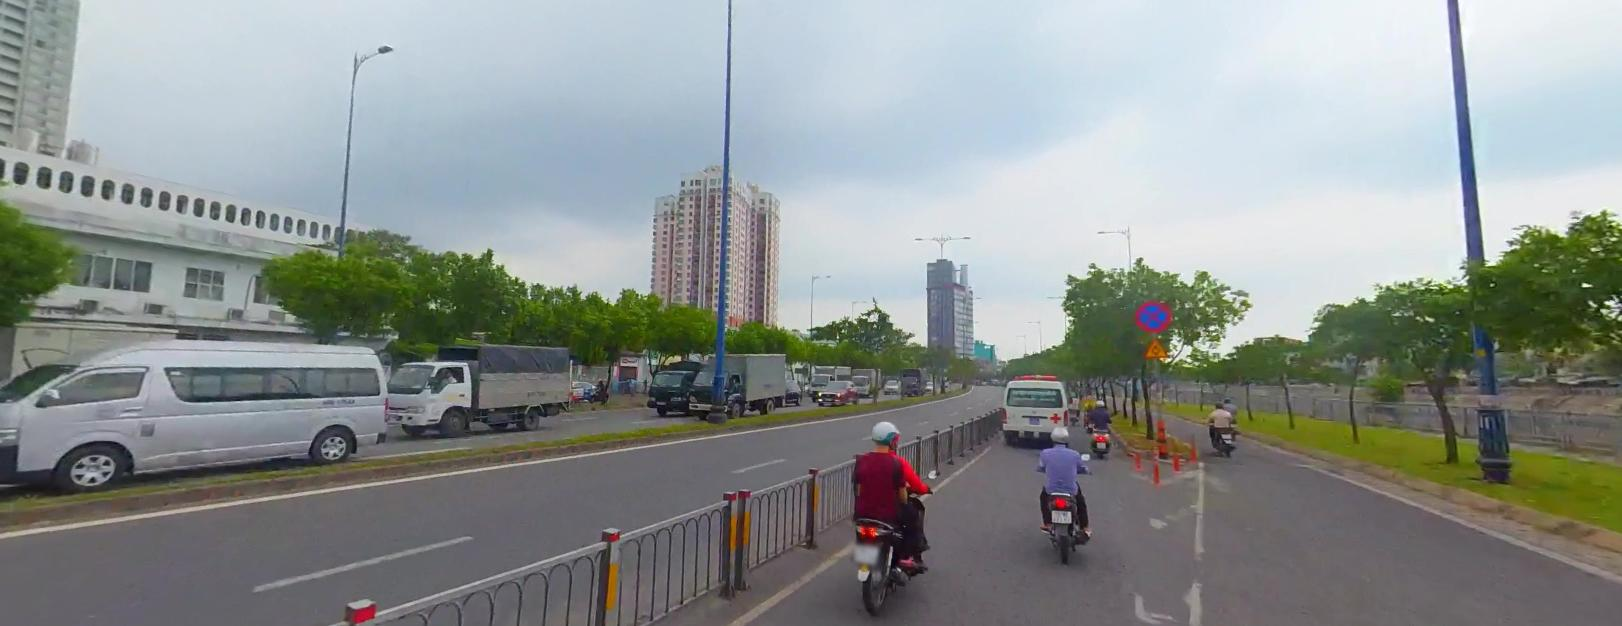Cam dung va do: (1135, 298, 1170, 330)
Nguy hiem: (1141, 336, 1171, 358)
